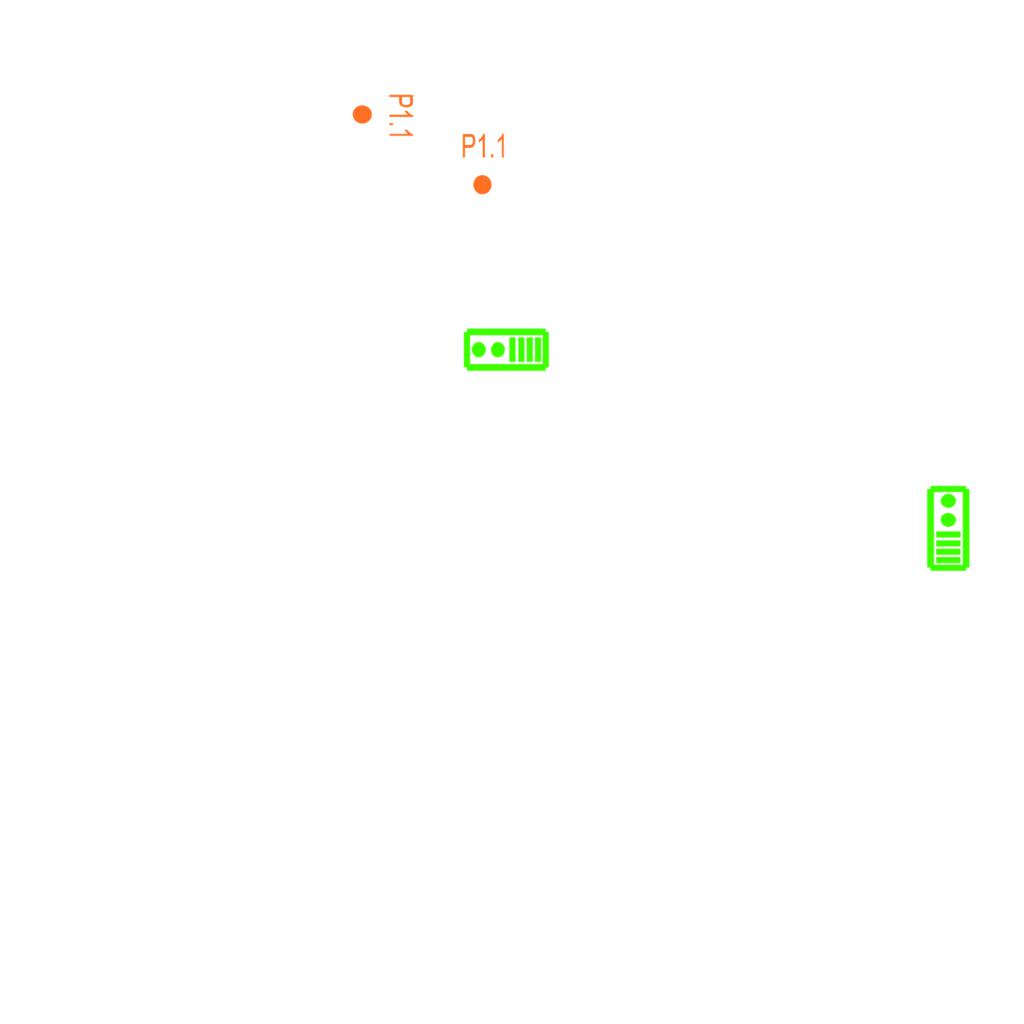Downlight_LED_Einbauleuchten_Flur: (351, 93, 415, 139), (461, 132, 507, 196)
Gegensprechanlage_mit_Video: (462, 327, 550, 374), (924, 484, 971, 572)
